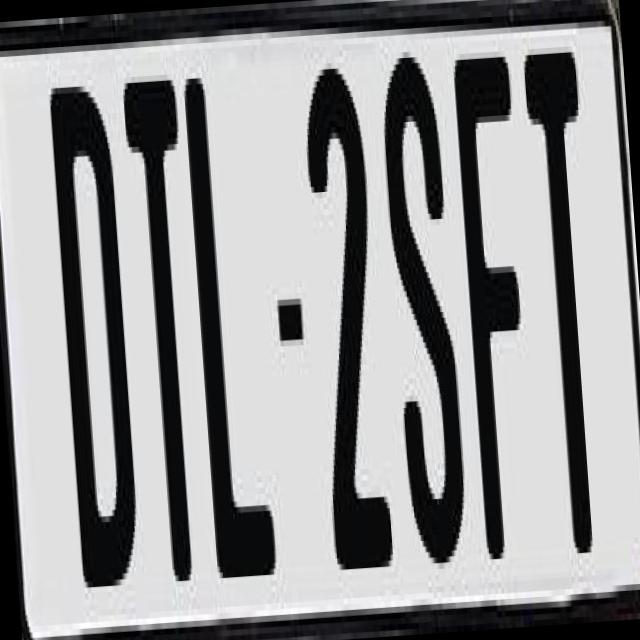2: (298, 54, 398, 582)
D: (42, 67, 136, 570)
F: (452, 50, 552, 559)
L: (178, 63, 280, 584)
S: (378, 55, 472, 564)
T: (119, 80, 210, 588), (518, 46, 608, 554)
